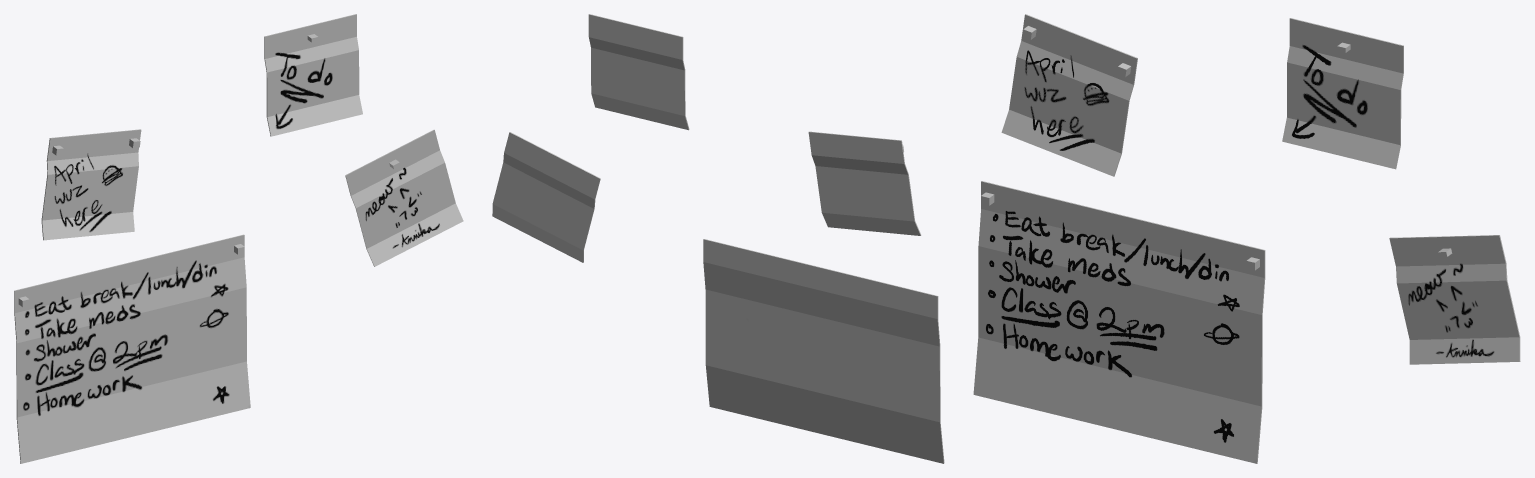
File: Notes.fbx
The picture shows the model from 3 angles, left to right: view 1: azimuth 30°, elevation 25°; view 2: azimuth 150°, elevation 25°; view 3: azimuth 330°, elevation 25°; orthographic projection. The views are drawn at different scales.
Visible parts, largest first — view 1: Sticky note two tac.001, Sticky note.one tac.001, Sticky note.one tac.002, Sticky note two tac.002; view 2: Sticky note two tac.001, Sticky note two tac.002, Sticky note.one tac.002, Sticky note.one tac.001; view 3: Sticky note two tac.001, Sticky note two tac.002, Sticky note.one tac.002, Sticky note.one tac.001.
Boxes of the visible parts, x1=… form: Sticky note two tac.001: x1=14, y1=234, x2=250, y2=463; Sticky note.one tac.001: x1=345, y1=129, x2=463, y2=266; Sticky note.one tac.002: x1=264, y1=14, x2=362, y2=136; Sticky note two tac.002: x1=41, y1=129, x2=141, y2=240; Sticky note two tac.001: x1=703, y1=239, x2=944, y2=463; Sticky note two tac.002: x1=808, y1=131, x2=921, y2=235; Sticky note.one tac.002: x1=588, y1=14, x2=689, y2=130; Sticky note.one tac.001: x1=492, y1=132, x2=600, y2=262; Sticky note two tac.001: x1=973, y1=181, x2=1265, y2=463; Sticky note two tac.002: x1=1001, y1=14, x2=1137, y2=176; Sticky note.one tac.002: x1=1282, y1=18, x2=1403, y2=169; Sticky note.one tac.001: x1=1389, y1=235, x2=1520, y2=364.
Size of the model in its own units: 19.91 by 15.56 by 0.5309.
4 materials, 4 textured.
